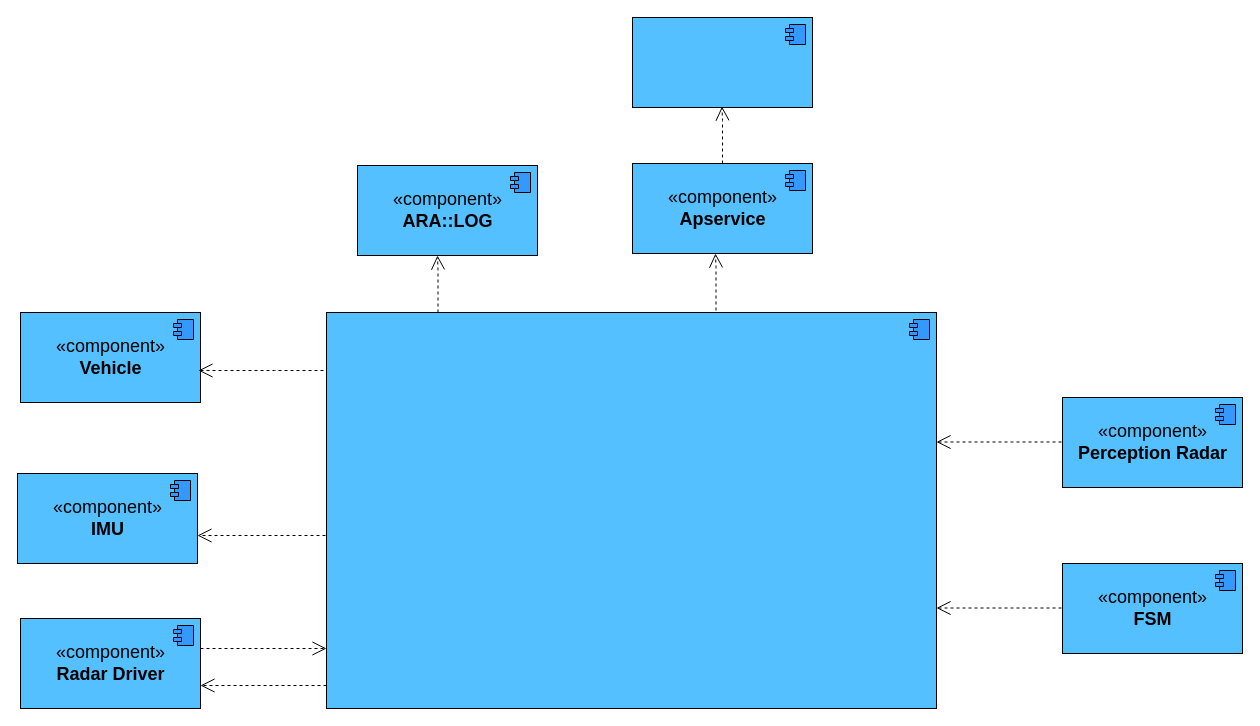
Image size: 1260x726. Some labels were removed from this diagram. The centre of each missing label's shape, as x and y in pixels:
«component» ARA::COM: (x=722, y=62)
«component» Driver Radar: (x=631, y=510)
